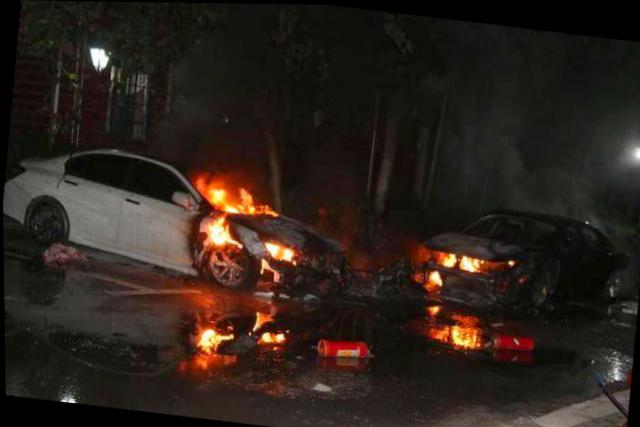fire: (208, 175, 239, 211), (201, 214, 234, 245), (445, 319, 480, 346), (194, 327, 221, 353), (264, 242, 298, 262), (237, 184, 260, 212), (462, 253, 491, 271), (252, 306, 270, 332), (425, 267, 446, 289), (434, 248, 457, 265), (263, 327, 285, 342), (257, 200, 278, 215), (433, 325, 447, 338), (429, 299, 441, 313)
